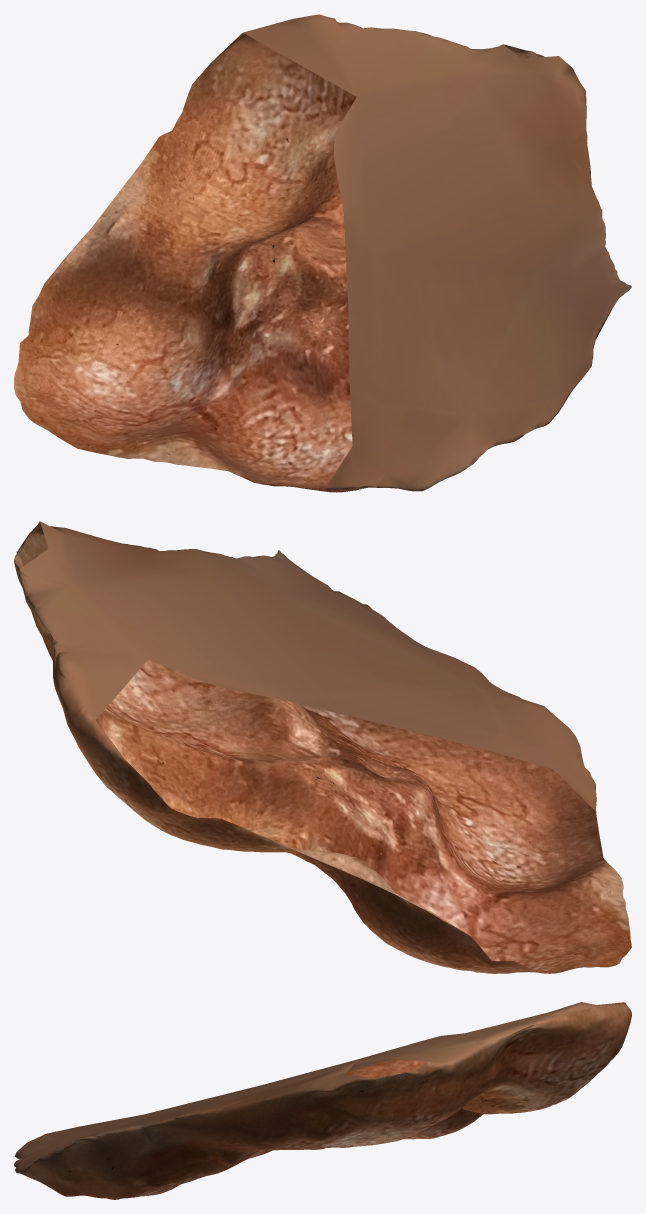
The model's file is baked_mesh.obj.
The picture shows the model from 3 angles, top to bottom: view 1: azimuth 30°, elevation 25°; view 2: azimuth 150°, elevation 25°; view 3: azimuth 270°, elevation 25°; orthographic projection. The views are drawn at different scales.
Parts seen in each view (by area): view 1: g0; view 2: g0; view 3: g0.
Boxes of the visible parts, x1=… form: g0: x1=14, y1=14, x2=631, y2=492; g0: x1=14, y1=521, x2=631, y2=973; g0: x1=14, y1=1002, x2=631, y2=1199.
Size of the model in its own units: 0.3022 by 0.1505 by 0.3072.
Materials: 1 (1 with a texture image).
